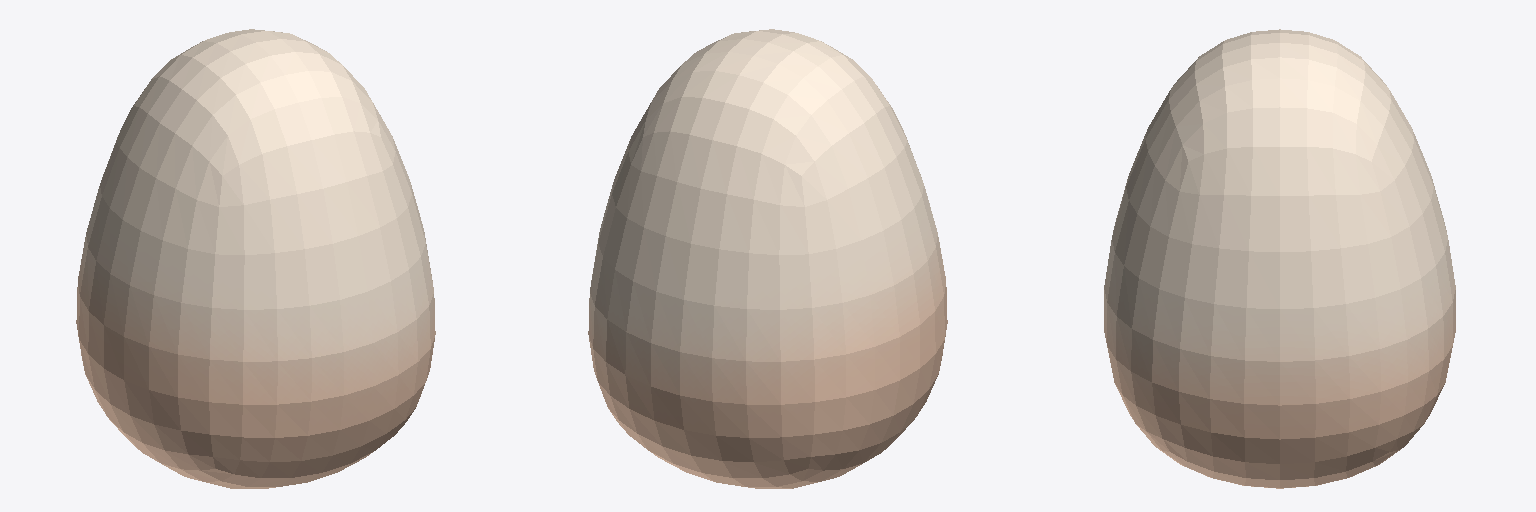
The picture shows the model from 3 angles: view 1: azimuth 30°, elevation 25°; view 2: azimuth 150°, elevation 25°; view 3: azimuth 270°, elevation 25°; orthographic projection.
Parts seen in each view (by area): view 1: Cube_Cube.001; view 2: Cube_Cube.001; view 3: Cube_Cube.001.
Boxes of the visible parts, x1,y1,x2,y2 form: Cube_Cube.001: [76, 29, 435, 488]; Cube_Cube.001: [588, 29, 947, 488]; Cube_Cube.001: [1104, 29, 1455, 488].
Size of the model in its own units: 1.36 by 1.82 by 1.36.
Materials: 1 (1 with a texture image).